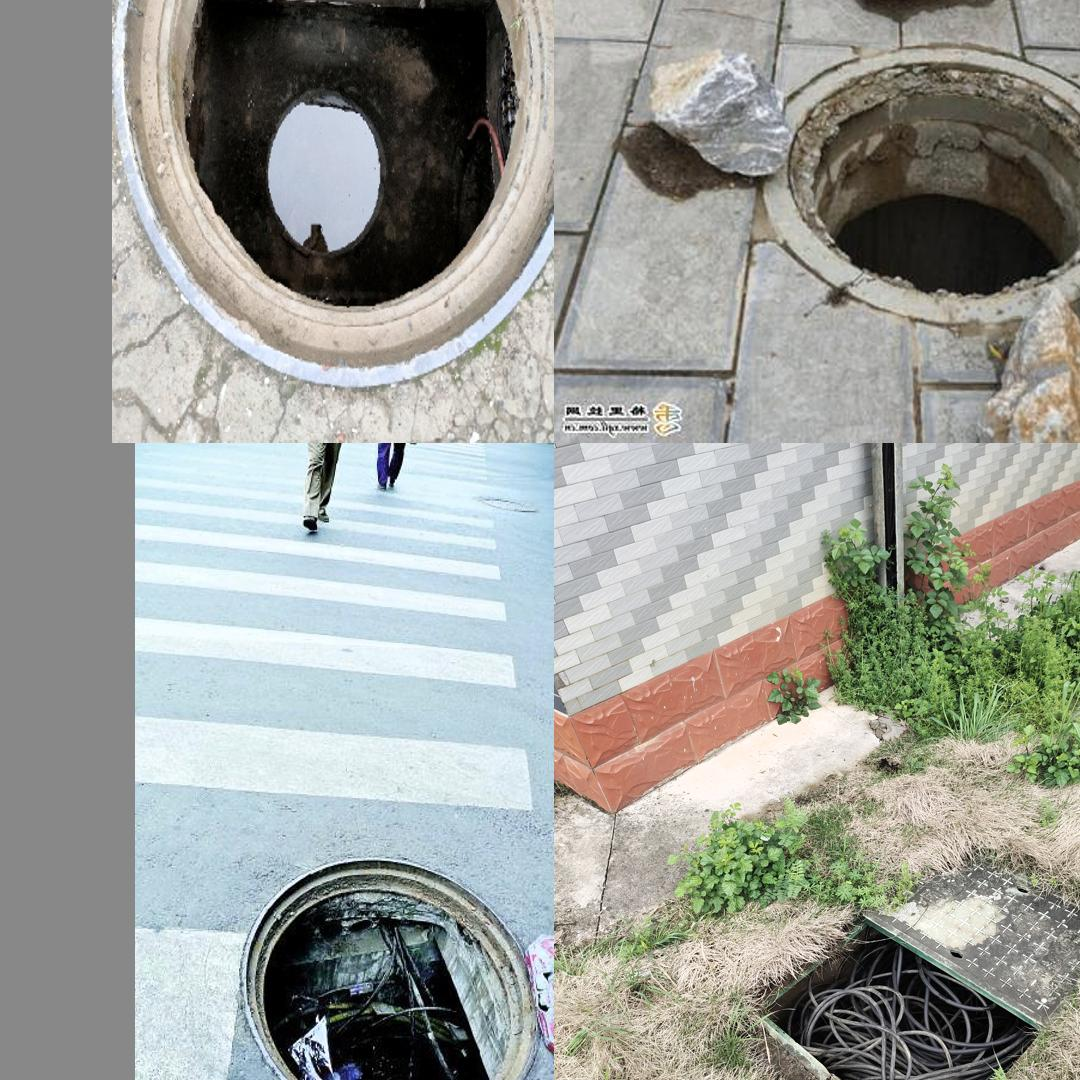lose: (114, 0, 550, 387), (744, 30, 1080, 319), (235, 845, 533, 1080), (753, 913, 1043, 1080)
